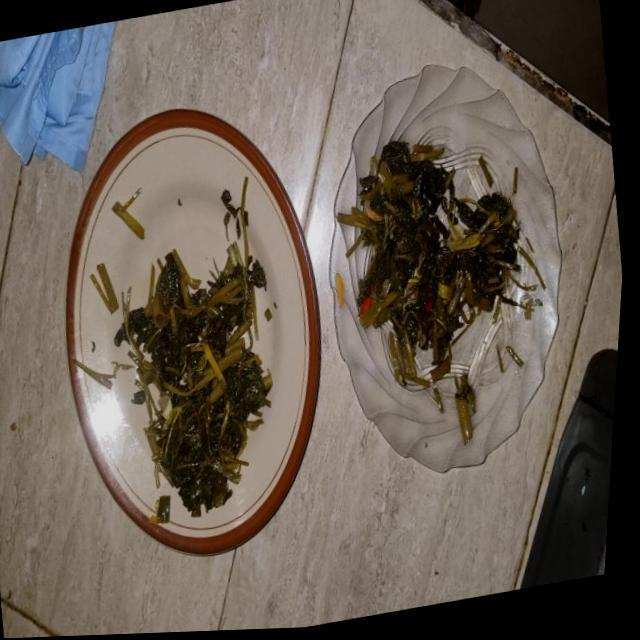tumis_kangkung: (356, 140, 520, 386), (128, 242, 272, 516)
